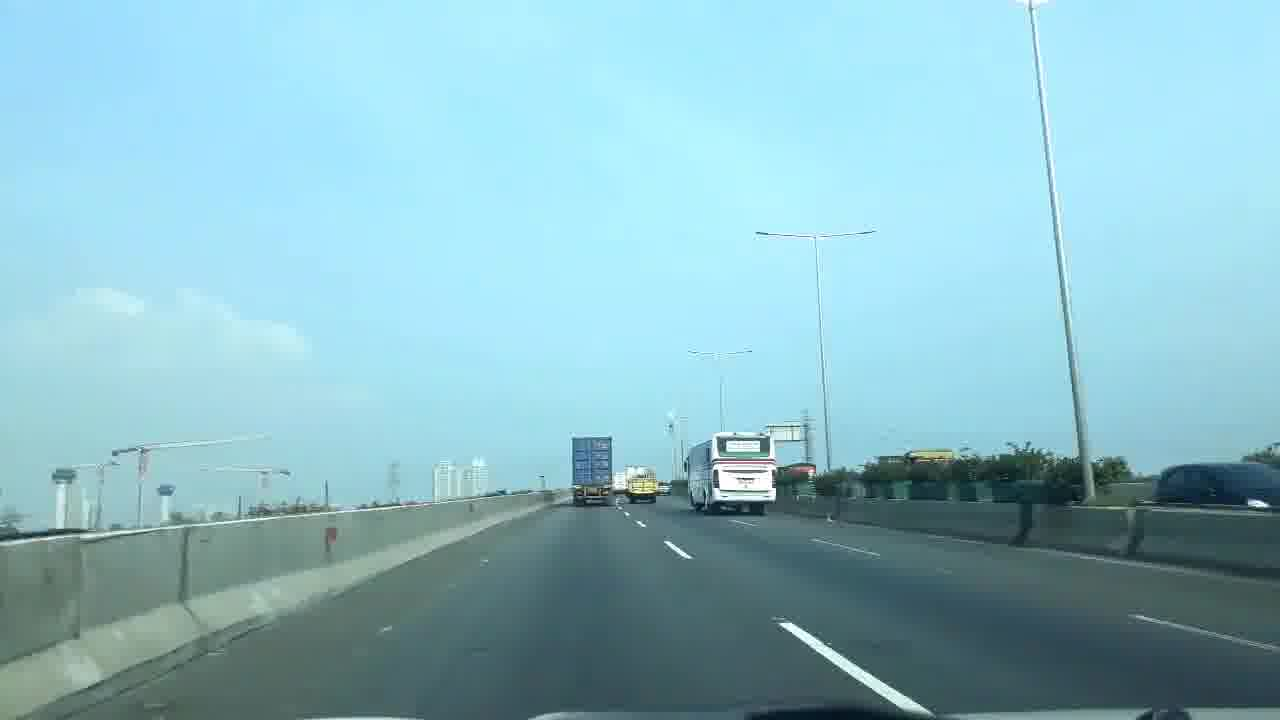plate_positive: (739, 479, 753, 484)
